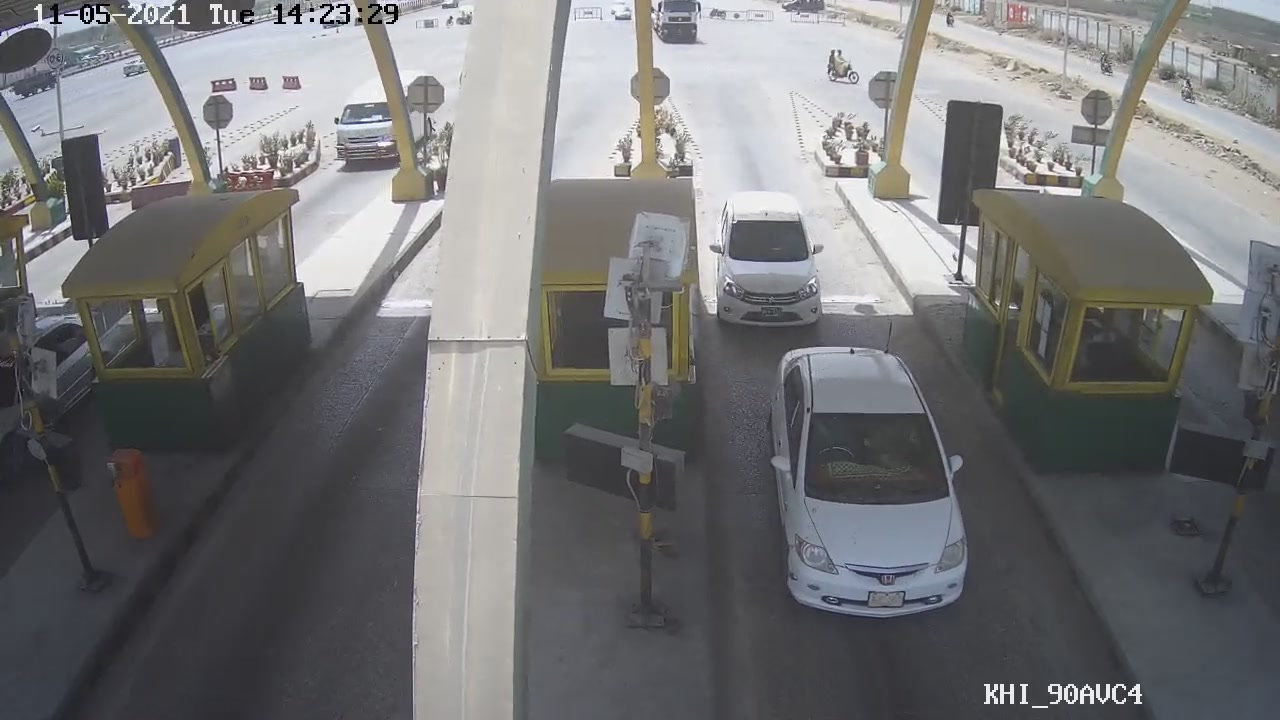F1: (757, 344, 984, 623), (707, 189, 825, 335)
